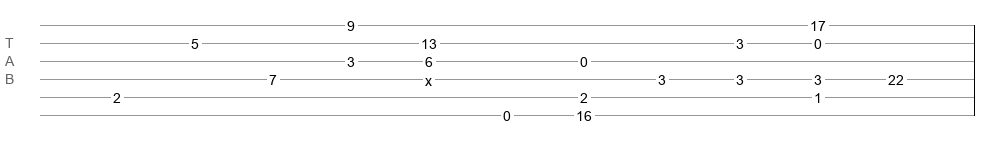0: (503, 108, 511, 118), (580, 54, 588, 64), (814, 36, 822, 46)
1: (814, 90, 822, 100)
13: (421, 36, 437, 46)
16: (576, 108, 592, 118)
17: (810, 18, 826, 28)
2: (113, 90, 121, 100), (580, 90, 588, 100)
22: (888, 72, 904, 82)
3: (347, 54, 355, 64), (658, 72, 666, 82), (736, 72, 744, 82), (736, 36, 744, 46), (814, 72, 822, 82)
5: (191, 36, 199, 46)
6: (425, 54, 433, 64)
7: (269, 72, 277, 82)
9: (347, 18, 355, 28)
x: (425, 73, 432, 81)
